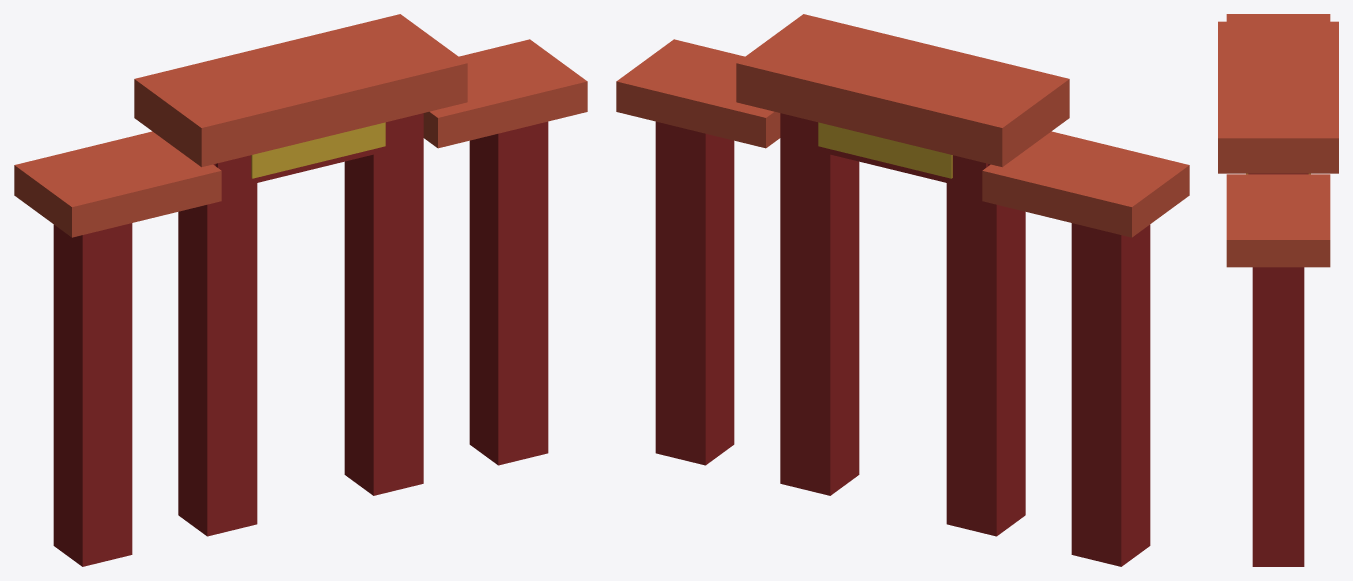
Rendered from CB_ENV_VN_Gate_TamQuan_A.glb.
The picture shows the model from 3 angles, left to right: view 1: azimuth 30°, elevation 25°; view 2: azimuth 150°, elevation 25°; view 3: azimuth 270°, elevation 25°; orthographic projection. The views are drawn at different scales.
Parts seen in each view (by area): view 1: CB_ENV_VN_Gate_TamQuan_A; view 2: CB_ENV_VN_Gate_TamQuan_A; view 3: CB_ENV_VN_Gate_TamQuan_A.
Boxes of the visible parts, x1,y1,x2,y2 form: CB_ENV_VN_Gate_TamQuan_A: (14, 14, 587, 566); CB_ENV_VN_Gate_TamQuan_A: (616, 14, 1189, 566); CB_ENV_VN_Gate_TamQuan_A: (1218, 14, 1338, 566).
Bounding box in the file's own units: 6.2 × 4.92 × 1.4.
